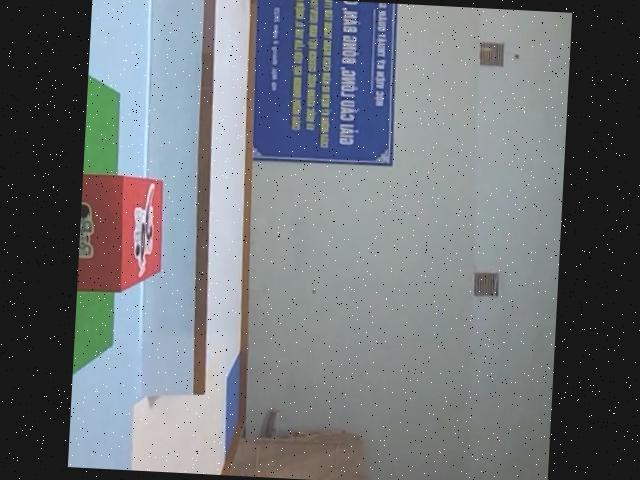R1: (77, 169, 170, 298)
